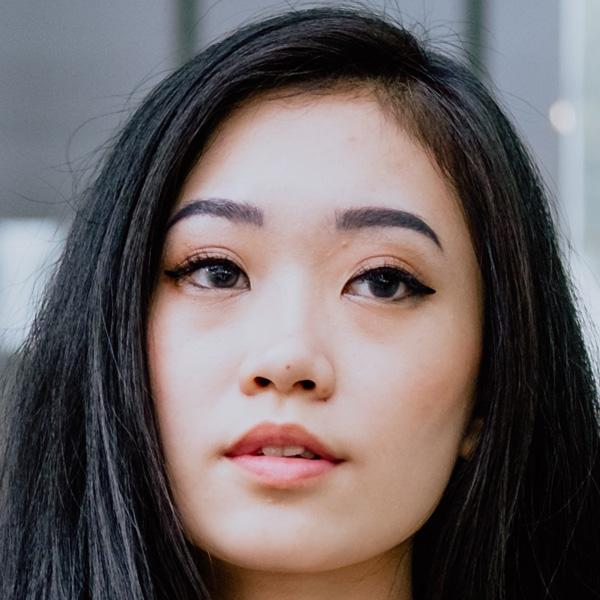Eyes: (335, 243, 440, 319), (156, 240, 259, 303)
